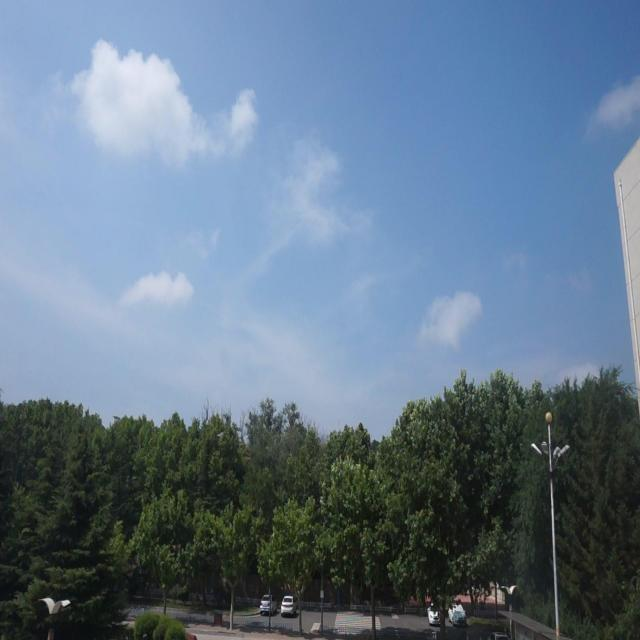UAV: (216, 432, 224, 437)
